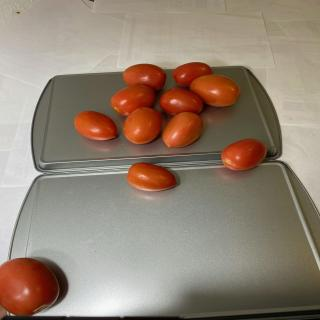Chilli: (74, 61, 242, 148)
Tomato: (0, 257, 60, 316), (190, 74, 242, 107), (126, 162, 177, 192), (162, 111, 203, 148), (221, 138, 267, 170), (124, 107, 162, 144), (110, 85, 155, 116), (74, 110, 117, 141), (122, 63, 166, 91), (159, 88, 203, 116), (172, 62, 213, 87)
